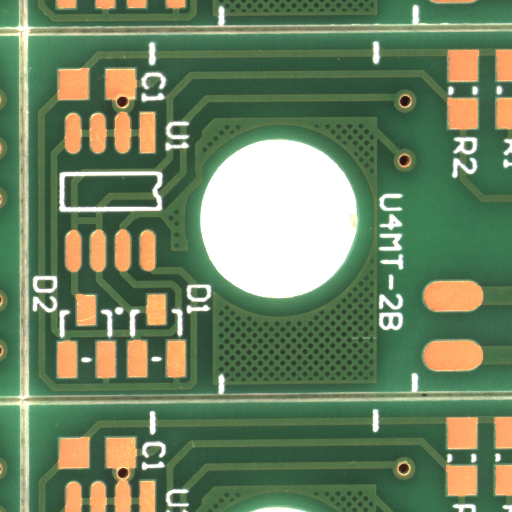Short: (85, 220, 112, 235)
